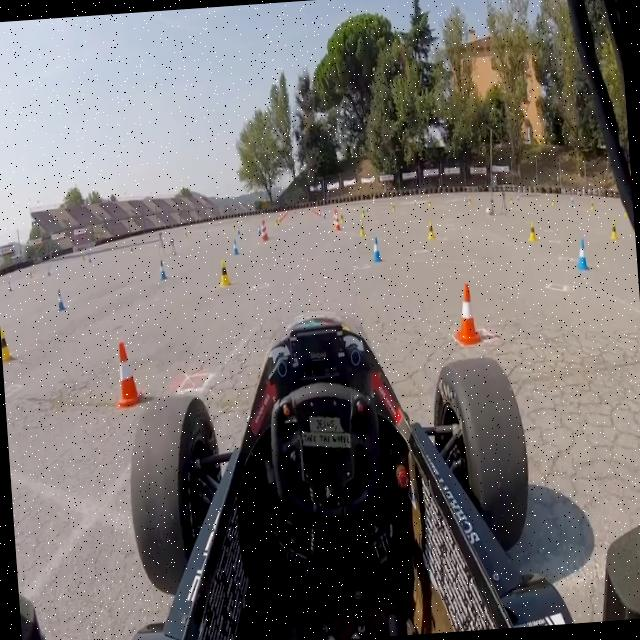blue_cone: (570, 234, 590, 274), (366, 235, 388, 265), (48, 283, 68, 314), (154, 256, 171, 288), (232, 237, 238, 256)
large_orange_cone: (331, 204, 338, 230), (259, 220, 266, 243), (334, 208, 341, 230), (262, 218, 268, 241)
orange_cone: (446, 274, 486, 359), (104, 334, 144, 411)
yellow_cone: (518, 217, 542, 260), (212, 254, 233, 294), (0, 322, 12, 362), (424, 213, 438, 246), (358, 218, 365, 237)
